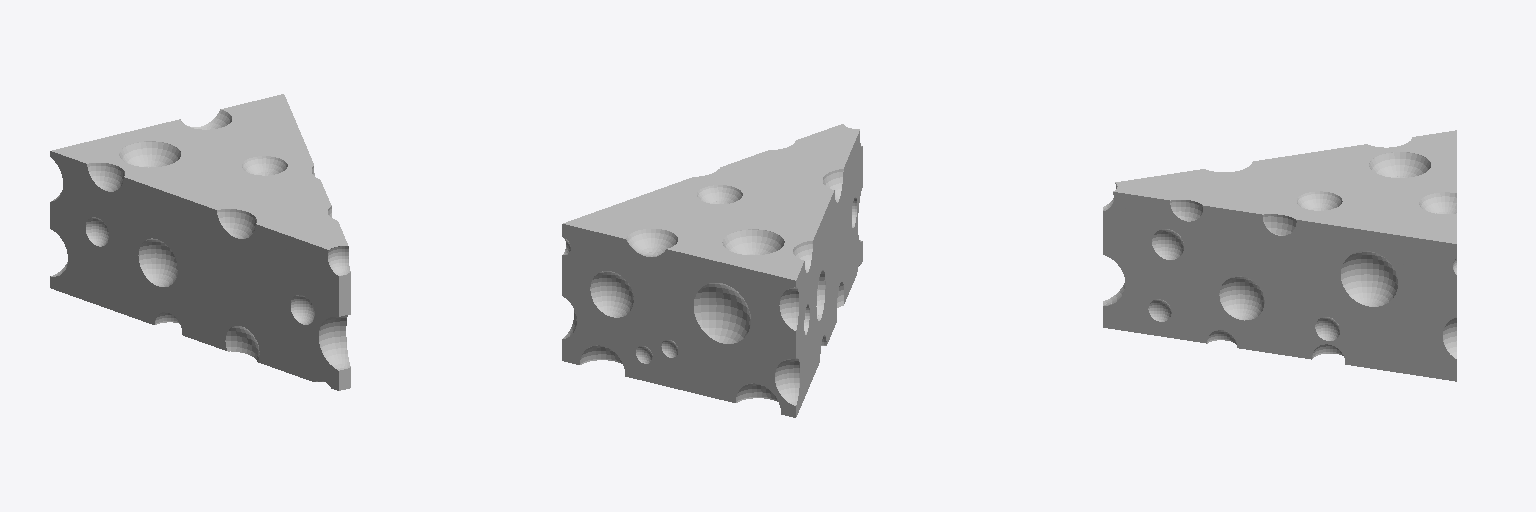
File: Cheese.obj
3 renders of one model, left to right at view 1: azimuth 30°, elevation 25°; view 2: azimuth 150°, elevation 25°; view 3: azimuth 270°, elevation 25°, orthographic.
Visible parts, largest first — view 1: Cheese; view 2: Cheese; view 3: Cheese.
Boxes of the visible parts, x1=… form: Cheese: x1=50, y1=94, x2=350, y2=390; Cheese: x1=562, y1=124, x2=862, y2=417; Cheese: x1=1103, y1=130, x2=1456, y2=381.
Bounding box in the file's own units: 1.78 × 1 × 2.34.